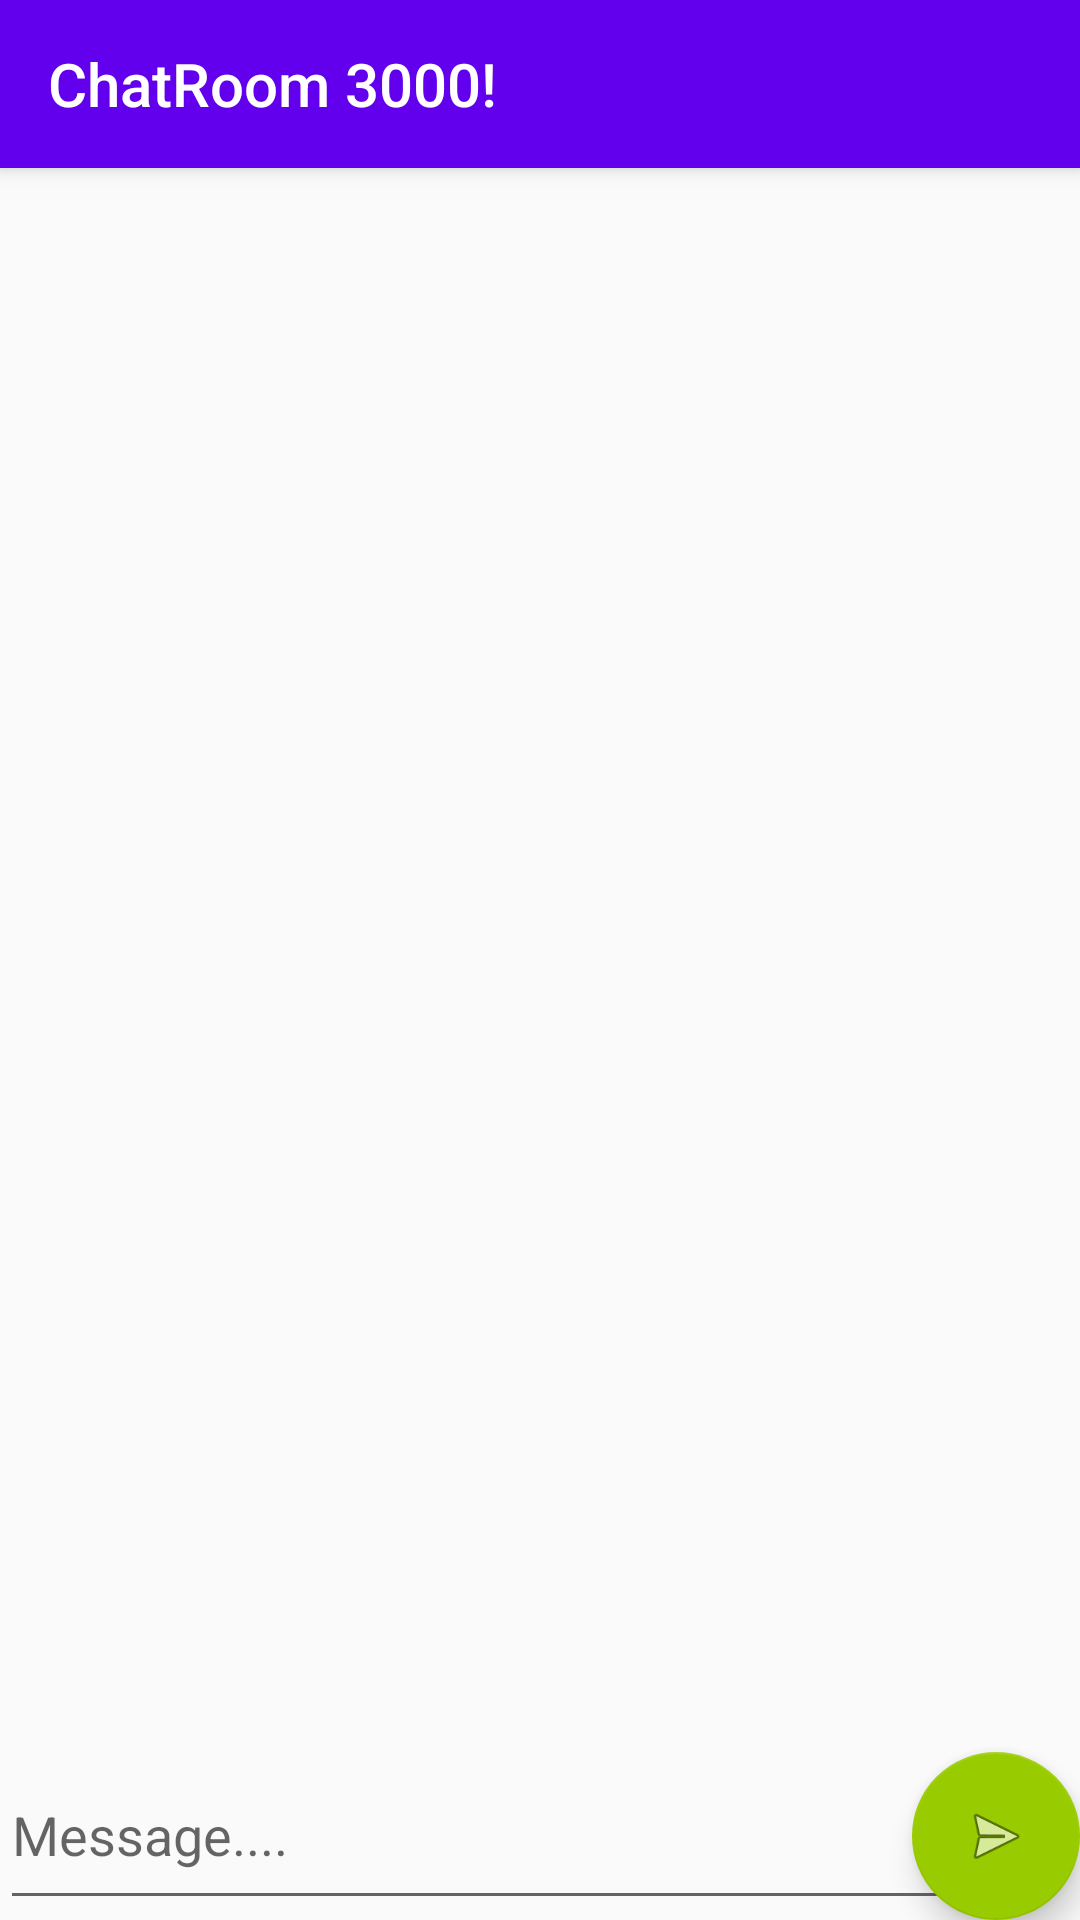

Screen size 1080px x 1920px. Icon name, then its center in pixels as [x,y]:
send: [996,1836]
